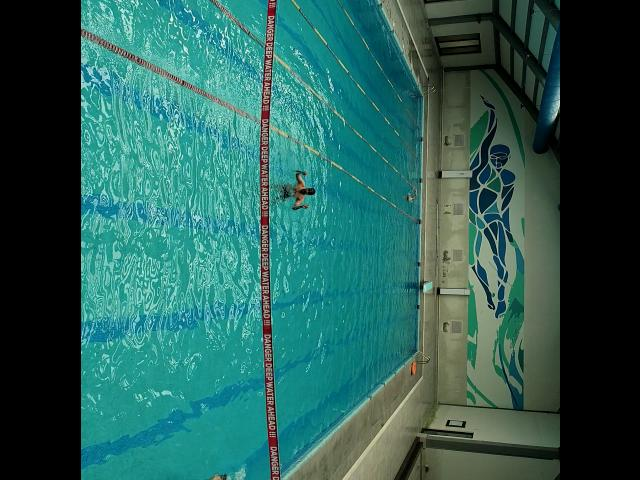swimming: (285, 169, 317, 211), (404, 192, 416, 203)
